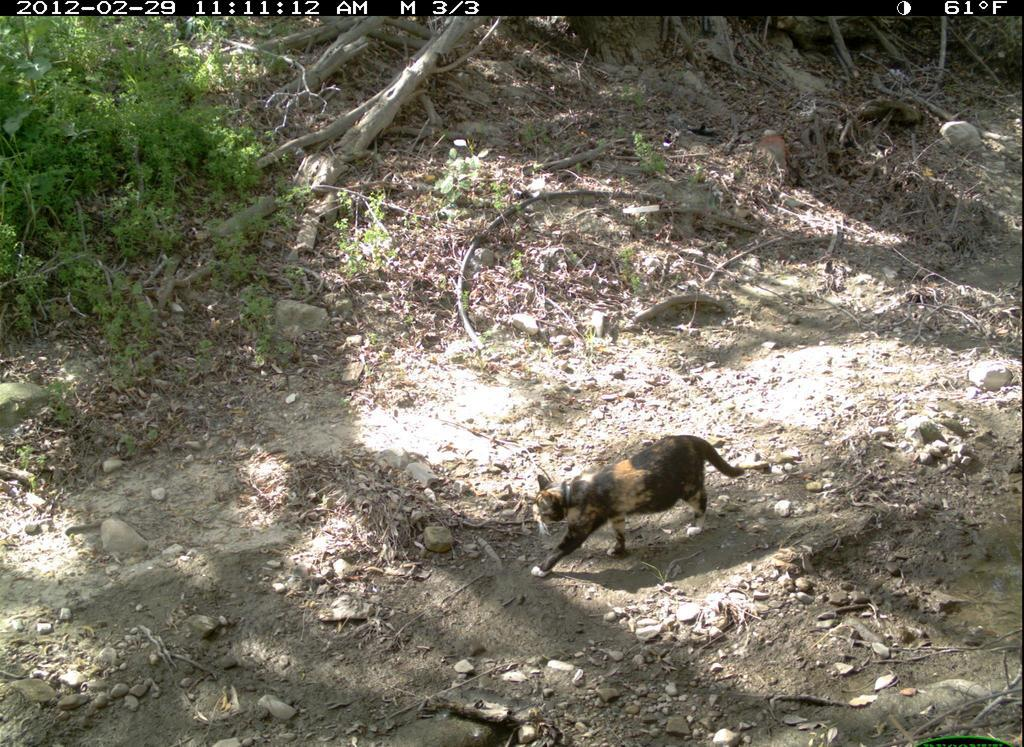cat: (530, 429, 747, 587)
